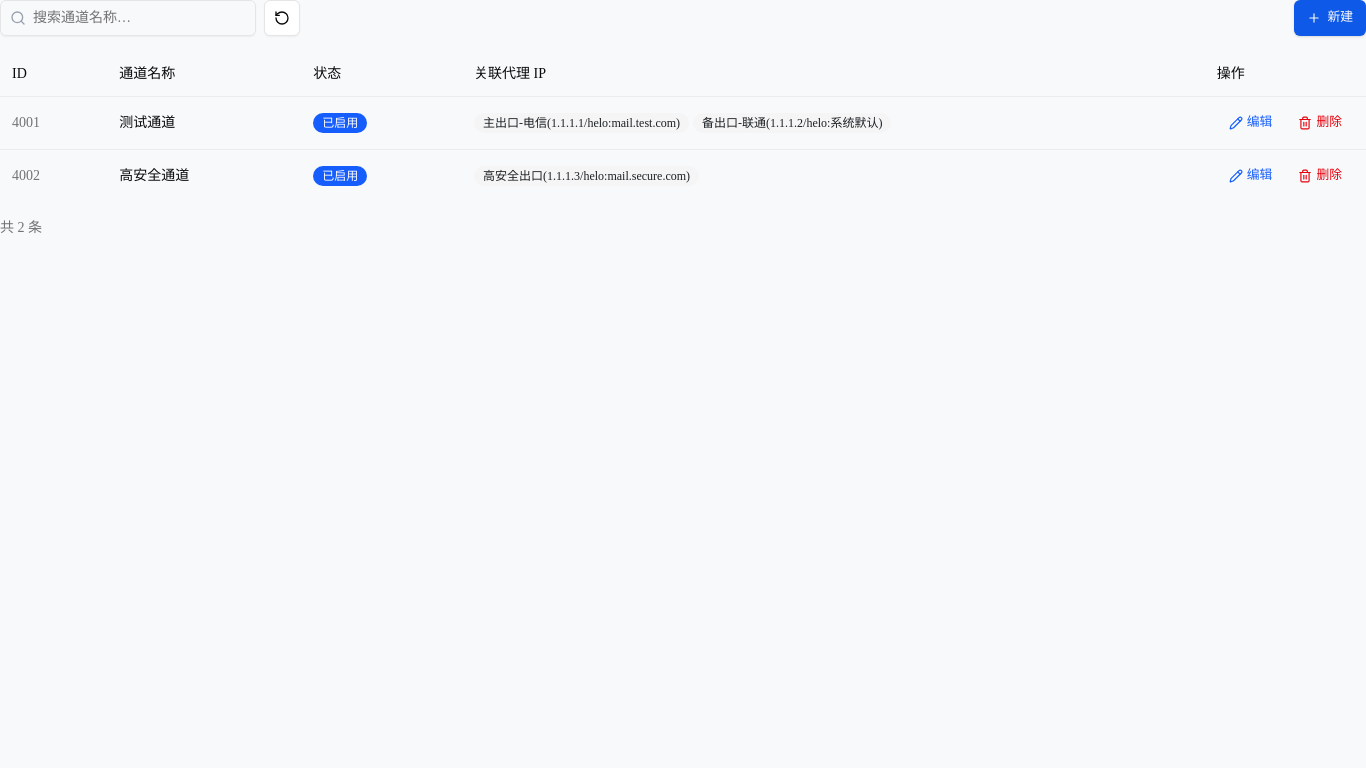
ChannelStep › delete confirmation shows the "被引用不可删" copy verbatim and removes the row on success
This screenshot has width=1366, height=768.
Step 1. Click the button with test id "mr-ob-channel-delete-4001" → (1320, 122), box left=1286, top=108, right=1354, bottom=136
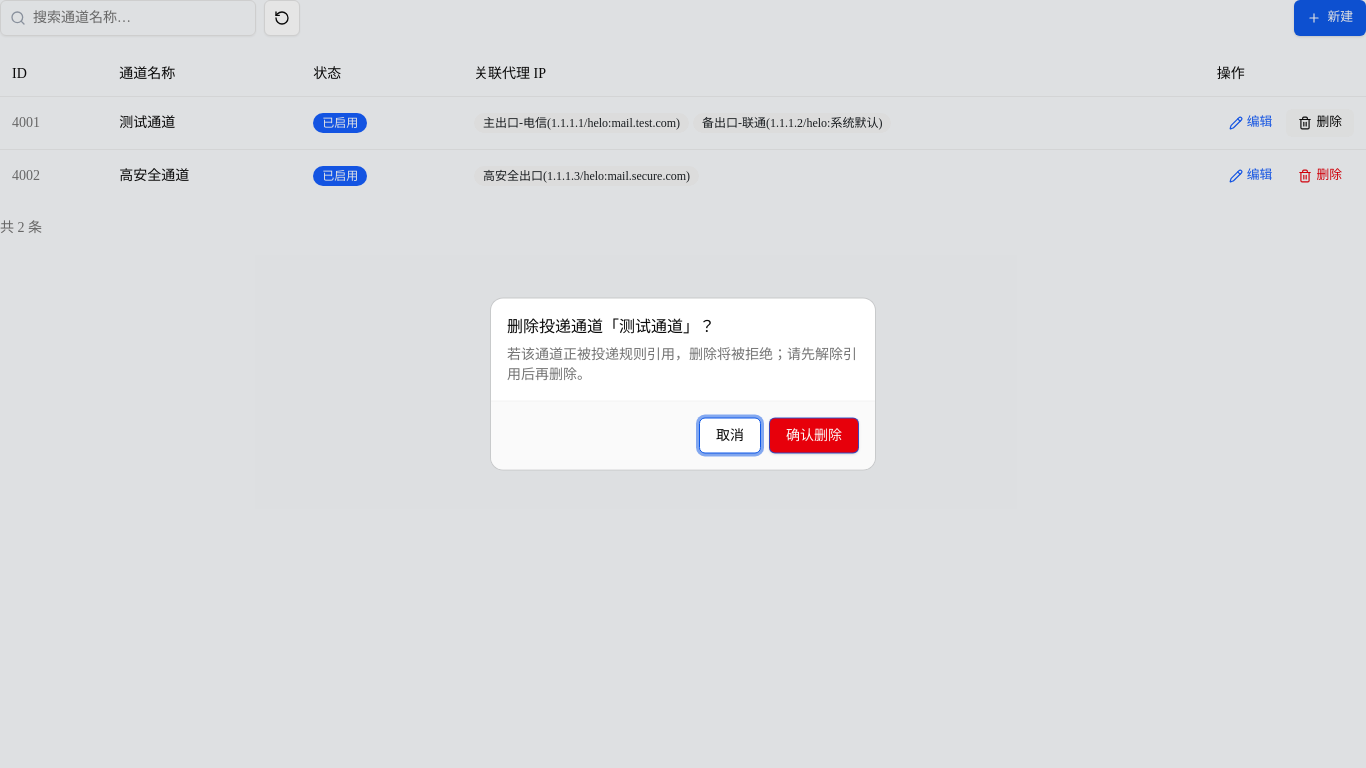
Check: the heading "删除投递通道「测试通道」？" is shown, box left=507, top=314, right=715, bottom=338
Check: the text "若该通道正被投递规则引用，删除将被拒绝；请先解除引用后再删除。" is shown, box left=507, top=344, right=859, bottom=384
Step 2. Click the button with test id "mr-ob-channel-delete-confirm" → (814, 436), box left=769, top=418, right=859, bottom=454
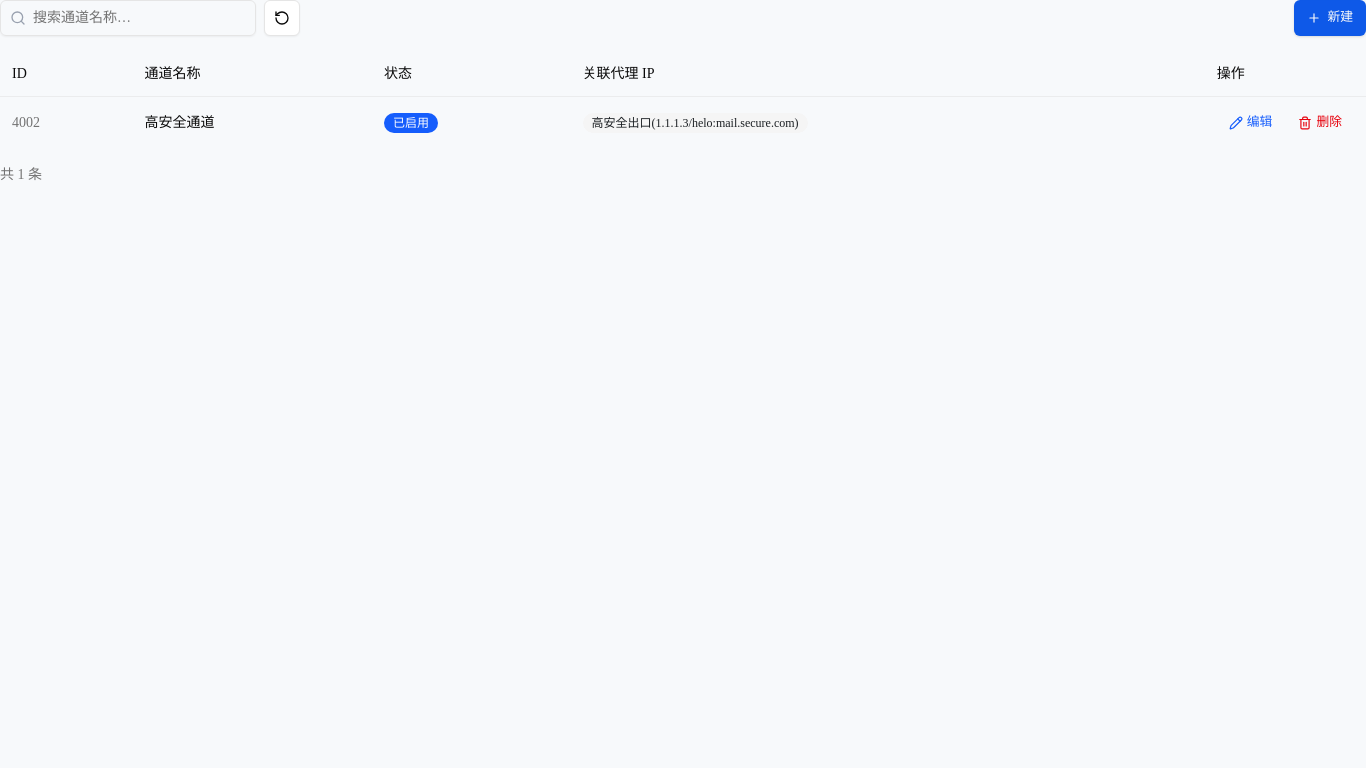
Check: the row with test id "mr-ob-channel-row-4001" is gone
